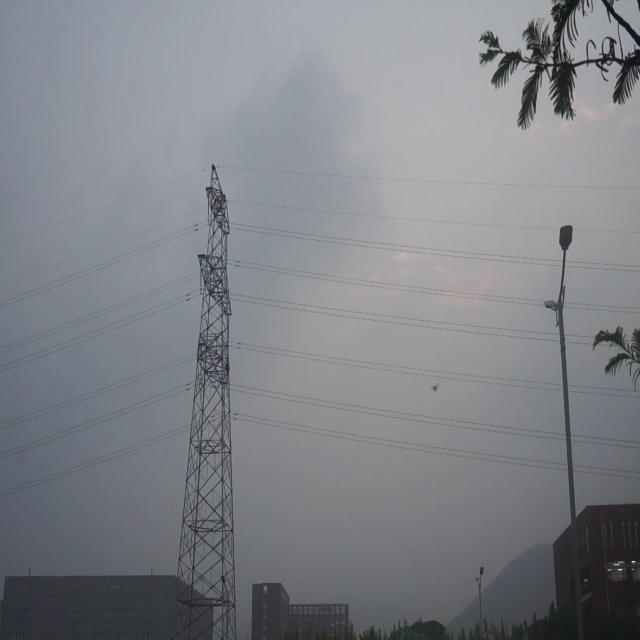drone: (429, 378, 441, 400)
